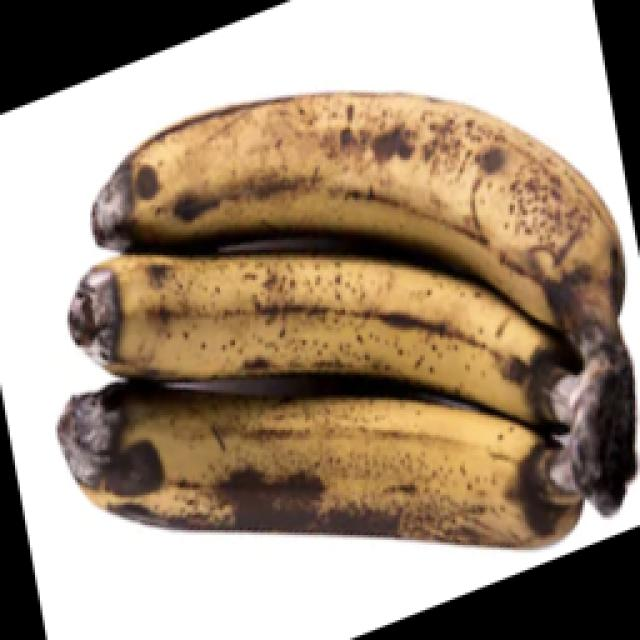Rotten_Banana: (29, 92, 640, 579)
